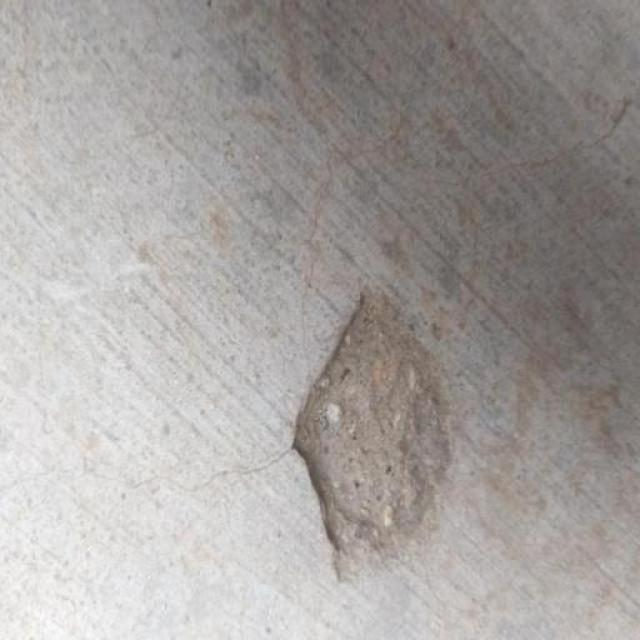D10: (292, 290, 455, 586)
